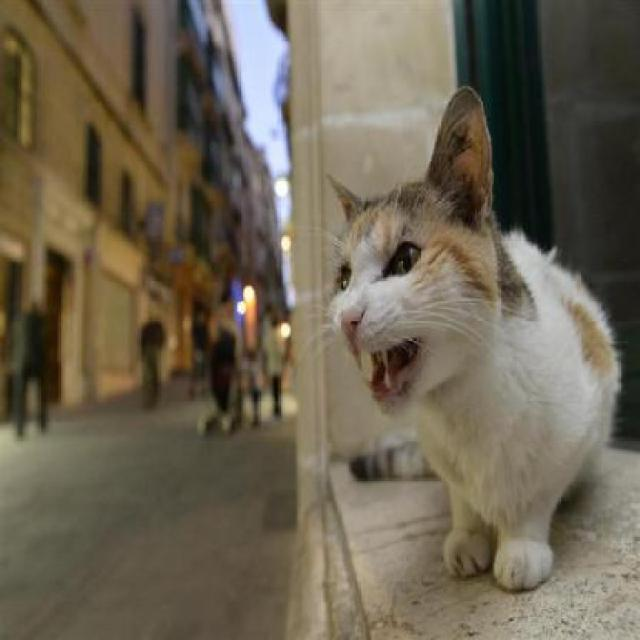Not_a_Chicken: (319, 83, 626, 594)
